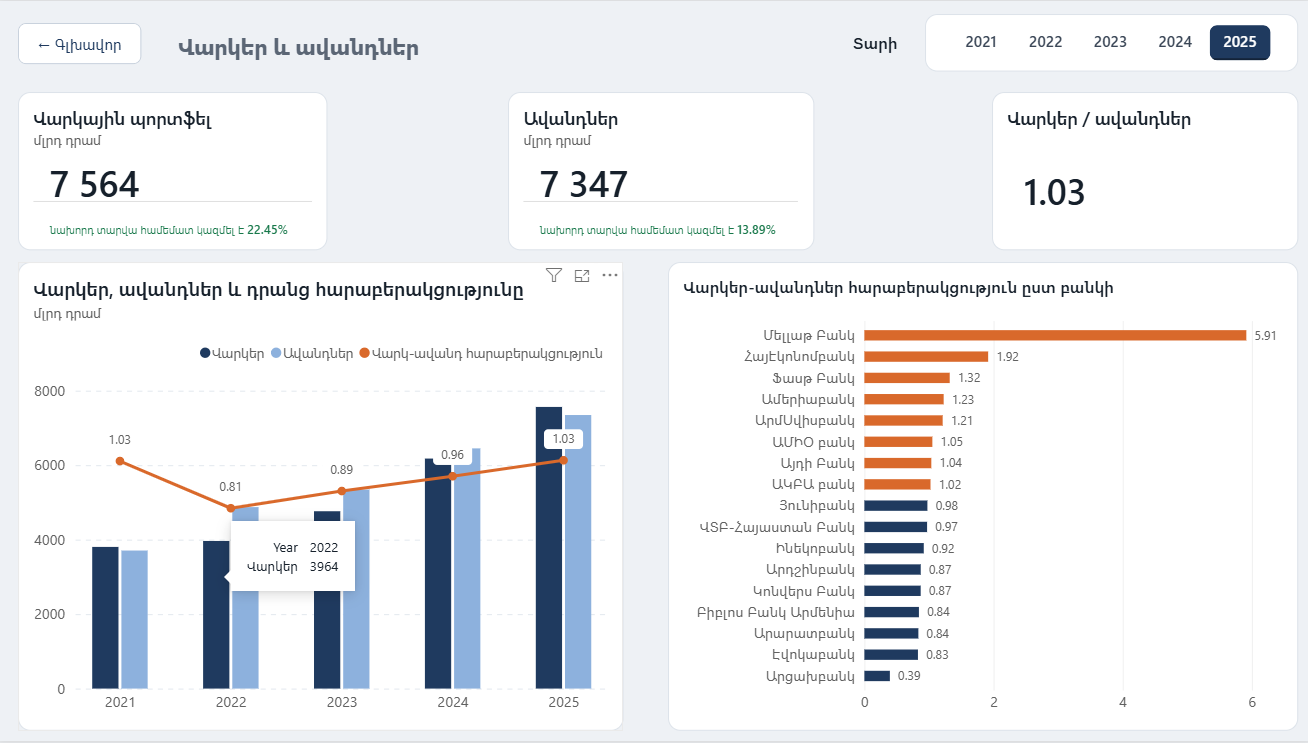

Layout of this report page (visuals, bound fields, positions):
{"tool":"powerbi","page":{"name":"Վարկեր և ավանդներ","canvas":[1280,720],"ordinal":2},"visuals":[{"type":"actionButton","box":[21.2,21.2,120,40],"z":0},{"type":"textbox","box":[162.5,17.5,275,58.8],"z":1000},{"type":"cardVisual","title":"Վարկային պորտֆել","fields":{"Data":["_Measures.KPI_Loans"]},"box":[21.2,88.8,301.2,153.8],"z":2000},{"type":"cardVisual","title":"Ավանդներ","fields":{"Data":["_Measures.KPI_Deposits"]},"box":[498.1,88.8,297.5,153.8],"z":3000},{"type":"cardVisual","title":"Վարկեր / ավանդներ\t","fields":{"Data":["_Measures.Loans_to_Deposits"]},"box":[968.8,88.8,297.5,153.8],"z":4000},{"type":"advancedSlicerVisual","fields":{"Values":["Dim_Year.Year"]},"box":[903.8,12.5,362.5,56.2],"z":5000},{"type":"textbox","title":"Տարի","box":[817.5,17.5,76.2,41.2],"z":6000},{"type":"lineClusteredColumnComboChart","title":"Վարկեր, ավանդներ և դրանց հարաբերակցությունը","fields":{"Category":["Dim_Year.Year"],"Y":["_Measures.Loans","_Measures.Deposits"],"Y2":["_Measures.Loans_to_Deposits"]},"box":[21.4,253.9,588.4,439.6],"z":7000},{"type":"clusteredBarChart","title":"Վարկեր-ավանդներ հարաբերակցություն ըստ բանկի","fields":{"Category":["Dim_Bank.BankName"],"Y":["_Measures.Loans_to_Deposits"]},"box":[653.6,253.9,612.8,439.6],"z":8000}]}

Visuals, with their boxes in screenshot pixels (x1, y1, x2, y2), scaled from the page's 1280x720 canvas onto the 1308x743 screenshot:
actionButton: pyautogui.locateOnScreen(22, 22, 144, 63)
textbox: pyautogui.locateOnScreen(166, 18, 447, 79)
"Վարկային պորտֆել" cardVisual: pyautogui.locateOnScreen(22, 92, 329, 250)
"Ավանդներ" cardVisual: pyautogui.locateOnScreen(509, 92, 813, 250)
"Վարկեր / ավանդներ	" cardVisual: pyautogui.locateOnScreen(990, 92, 1294, 250)
advancedSlicerVisual - Dim_Year.Year: pyautogui.locateOnScreen(924, 13, 1294, 71)
"Տարի" textbox: pyautogui.locateOnScreen(835, 18, 913, 61)
"Վարկեր, ավանդներ և դրանց հարաբերակցությունը" lineClusteredColumnComboChart: pyautogui.locateOnScreen(22, 262, 623, 716)
"Վարկեր-ավանդներ հարաբերակցություն ըստ բանկի" clusteredBarChart: pyautogui.locateOnScreen(668, 262, 1294, 716)
